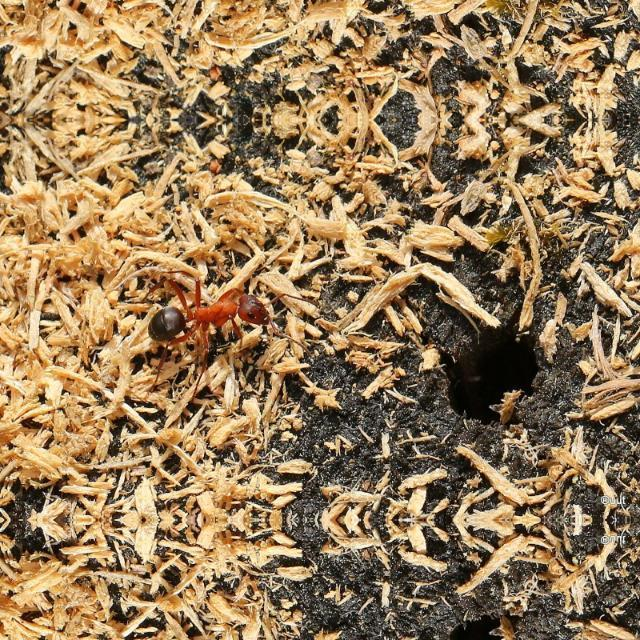Formica: (150, 268, 290, 364)
